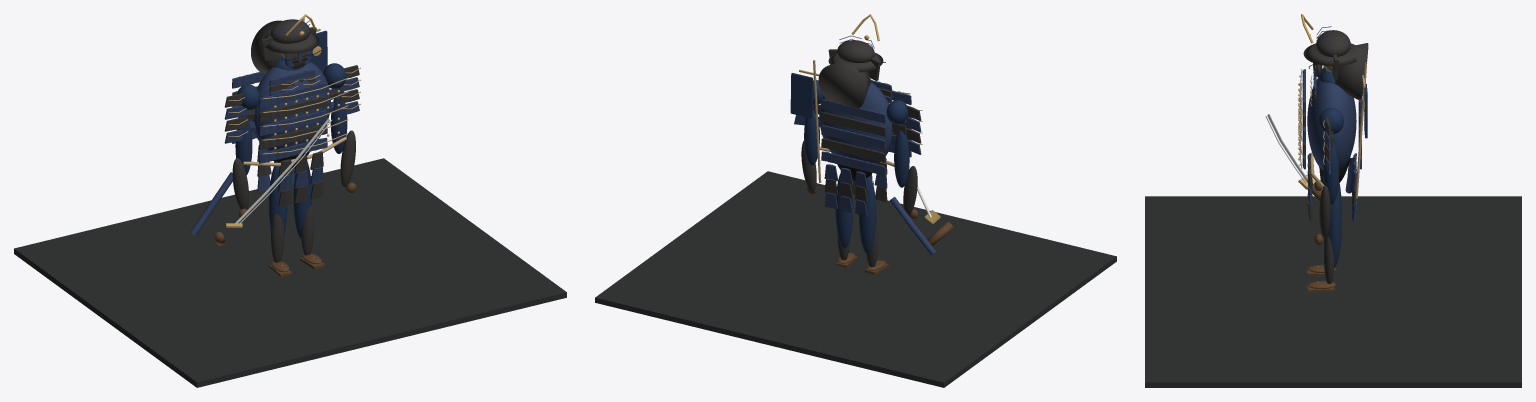
The model's file is actor-uesugi-07.glb.
3 views of the same model, side by side, from view 1: azimuth 30°, elevation 25°; view 2: azimuth 150°, elevation 25°; view 3: azimuth 270°, elevation 25° (orthographic). The views are drawn at different scales.
Visible parts, largest first — view 1: matte charcoal inspection plinth, rounded do cuirass silhouette, rear shikoro neck guard flare, segmented kabuto helmet bowl, right armored upper arm, right kote forearm guard, left kote forearm guard, wide kabuto brim, left hakama trouser leg, right hakama trouser leg, left armored upper arm, left shin greave (+2 smaller); view 2: matte charcoal inspection plinth, rear shikoro neck guard flare, rounded do cuirass silhouette, cloth sashimono banner panel, left hakama trouser leg, left armored upper arm, segmented kabuto helmet bowl, right hakama trouser leg, right armored upper arm, left kote forearm guard, lacquered saya scabbard at left hip; view 3: matte charcoal inspection plinth, rounded do cuirass silhouette, rear shikoro neck guard flare, segmented kabuto helmet bowl, right hakama trouser leg, wide kabuto brim, right armored upper arm, right kote forearm guard, right shoulder undercloth, right shin greave, bamboo sashimono back pole.
Boxes of the visible parts, x1,y1,x2,y2 form: matte charcoal inspection plinth: (14, 158, 566, 387); rounded do cuirass silhouette: (252, 62, 330, 151); rear shikoro neck guard flare: (251, 20, 283, 74); segmented kabuto helmet bowl: (270, 19, 310, 43); right armored upper arm: (330, 93, 347, 153); right kote forearm guard: (340, 130, 355, 186); left kote forearm guard: (232, 158, 248, 209); wide kabuto brim: (261, 33, 319, 53); left hakama trouser leg: (269, 166, 287, 234); right hakama trouser leg: (293, 163, 311, 239); left armored upper arm: (235, 116, 252, 174); left shin greave: (271, 213, 284, 262); matte charcoal inspection plinth: (595, 171, 1116, 387); rear shikoro neck guard flare: (818, 61, 870, 108); rounded do cuirass silhouette: (819, 82, 893, 164); cloth sashimono banner panel: (790, 73, 813, 118); left hakama trouser leg: (859, 176, 876, 253); left armored upper arm: (894, 130, 909, 187); segmented kabuto helmet bowl: (837, 40, 874, 62); right hakama trouser leg: (835, 173, 852, 248); right armored upper arm: (804, 110, 819, 165); left kote forearm guard: (903, 166, 917, 215); lacquered saya scabbard at left hip: (889, 197, 935, 254); matte charcoal inspection plinth: (1145, 196, 1521, 387); rounded do cuirass silhouette: (1307, 76, 1356, 170); rear shikoro neck guard flare: (1335, 43, 1368, 99); segmented kabuto helmet bowl: (1316, 30, 1350, 56); right hakama trouser leg: (1328, 189, 1341, 267); wide kabuto brim: (1303, 43, 1356, 66); right armored upper arm: (1323, 142, 1339, 204); right kote forearm guard: (1319, 185, 1330, 238); right shoulder undercloth: (1319, 108, 1343, 134); right shin greave: (1324, 235, 1334, 283); bamboo sashimono back pole: (1355, 62, 1367, 198).
Bounding box in the file's own units: 4.2 × 2.96 × 3.6.
